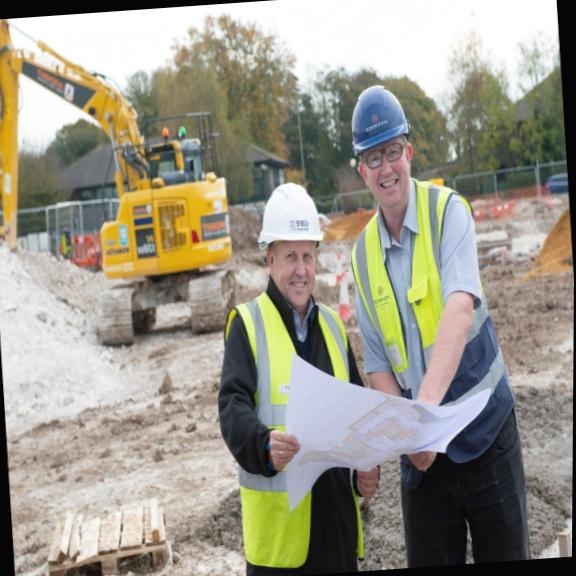safety_vest: (217, 294, 359, 566), (353, 183, 453, 405)
